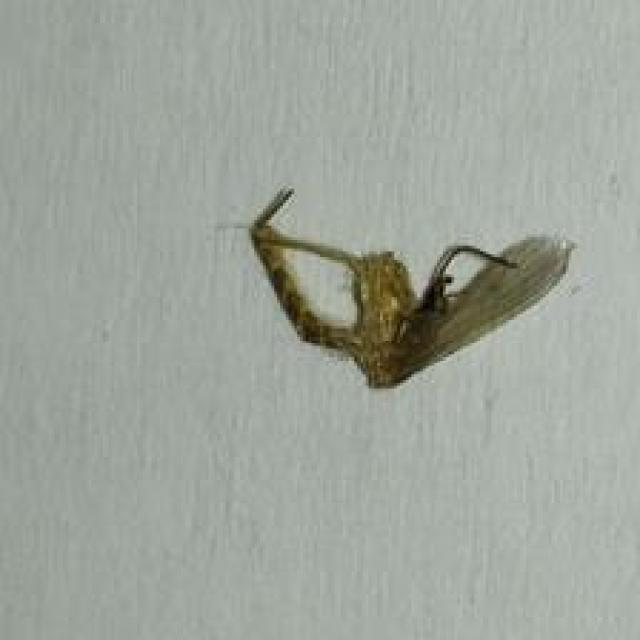Culex: (241, 184, 576, 390)
